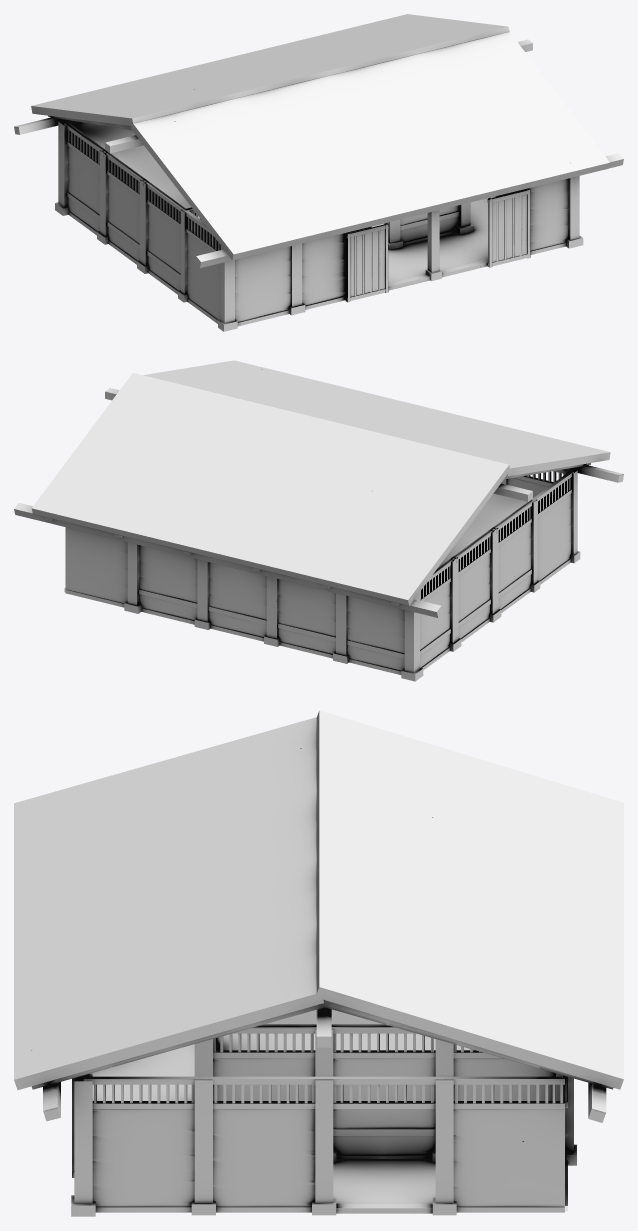
Rendered from room2.fbx.
The picture shows the model from 3 angles, top to bottom: view 1: azimuth 30°, elevation 25°; view 2: azimuth 150°, elevation 25°; view 3: azimuth 270°, elevation 25°; orthographic projection. The views are drawn at different scales.
Visible parts, largest first — view 1: Roof, House, Corridor, Ceiling; view 2: Roof, House, Ceiling; view 3: Roof, House, Corridor, Tatami, Ceiling.
Part boxes in pixels (x1,y1,x2,y2): Roof: (14,14,623,268); House: (55,120,583,331); Corridor: (388,196,495,283); Ceiling: (66,120,192,210); Roof: (14,360,623,617); House: (64,468,580,681); Ceiling: (436,493,531,570); Roof: (14,710,623,1122); House: (71,1027,576,1216); Corridor: (90,1044,435,1203); Tatami: (217,1033,474,1050); Ceiling: (256,1009,392,1026).
Size of the model in its own units: 1222 by 432 by 1014.
